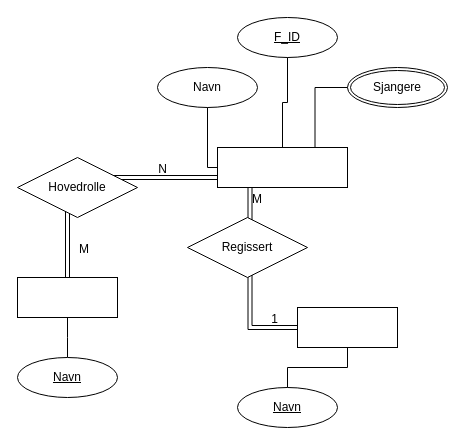
Some shapes in this 465 by 445 pixel diagram are drawn without their labels. The centre of each missing label's shape, as x and y in pixels:
Film: point 282,167
Regissør: point 347,327
Skuespiller: point 67,297
